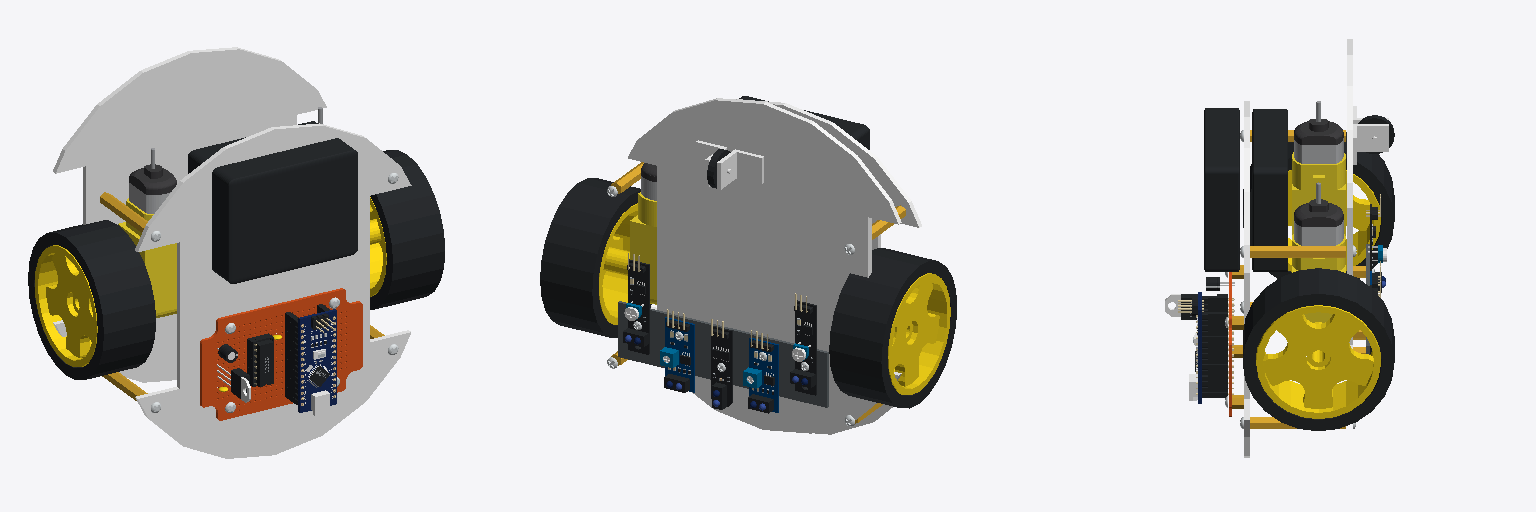
The model's file is tinker.obj.
3 views of the same model, side by side, from view 1: azimuth 30°, elevation 25°; view 2: azimuth 150°, elevation 25°; view 3: azimuth 270°, elevation 25° (orthographic).
Parts seen in each view (by area): view 1: obj_34, obj_4, obj_9, obj_2, obj_3, obj_35, obj_36, obj_0, obj_37, obj_41, obj_5, obj_43 (+1 smaller); view 2: obj_4, obj_2, obj_3, obj_58, obj_34, obj_1, obj_56, obj_57, obj_46, obj_47, obj_55, obj_53 (+2 smaller); view 3: obj_3, obj_9, obj_10, obj_0, obj_2, obj_1, obj_38, obj_34, obj_36, obj_4, obj_6, obj_54 (+1 smaller).
Part boxes in pixels (bbox=[...]): obj_34: bbox=[135, 123, 411, 458]; obj_4: bbox=[53, 47, 326, 382]; obj_9: bbox=[212, 138, 357, 283]; obj_2: bbox=[28, 220, 155, 379]; obj_3: bbox=[370, 150, 444, 309]; obj_35: bbox=[200, 288, 362, 420]; obj_36: bbox=[295, 309, 336, 416]; obj_0: bbox=[118, 148, 176, 317]; obj_37: bbox=[285, 312, 297, 403]; obj_41: bbox=[254, 339, 273, 386]; obj_5: bbox=[100, 192, 147, 232]; obj_43: bbox=[217, 364, 250, 402]; obj_4: bbox=[628, 98, 901, 433]; obj_2: bbox=[829, 248, 956, 408]; obj_3: bbox=[540, 178, 651, 337]; obj_58: bbox=[618, 301, 828, 407]; obj_34: bbox=[651, 99, 921, 434]; obj_1: bbox=[630, 163, 656, 304]; obj_56: bbox=[743, 330, 778, 413]; obj_57: bbox=[660, 309, 694, 392]; obj_46: bbox=[623, 253, 649, 354]; obj_47: bbox=[790, 293, 816, 395]; obj_55: bbox=[711, 319, 732, 409]; obj_53: bbox=[717, 149, 763, 189]; obj_3: bbox=[1243, 268, 1394, 430]; obj_9: bbox=[1204, 108, 1239, 271]; obj_10: bbox=[1252, 109, 1287, 271]; obj_0: bbox=[1292, 101, 1345, 235]; obj_2: bbox=[1243, 132, 1394, 278]; obj_1: bbox=[1292, 182, 1345, 322]; obj_38: bbox=[1208, 312, 1233, 397]; obj_34: bbox=[1244, 101, 1249, 457]; obj_36: bbox=[1178, 292, 1207, 403]; obj_4: bbox=[1347, 39, 1352, 348]; obj_6: bbox=[1250, 246, 1345, 257]; obj_54: bbox=[1353, 124, 1388, 164].
Size of the model in its own units: 164 by 170 by 94.96.